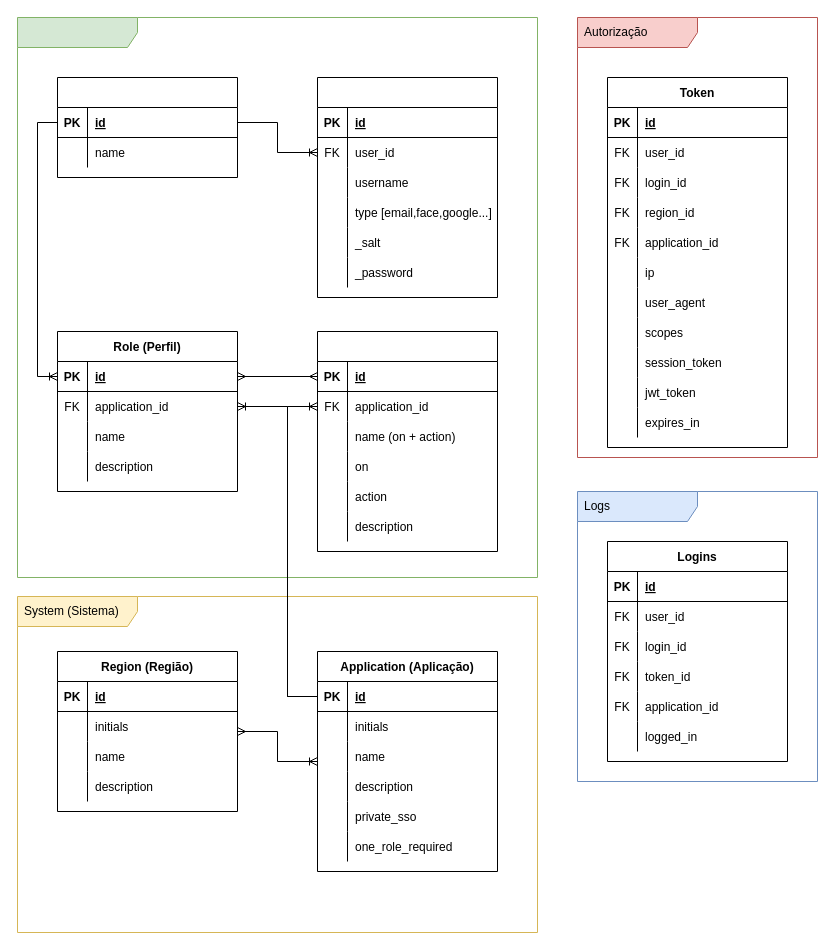
The diagram is 835 pixels wide and 950 high, and some of its shapes have lost their labels. Here are the shapes that lost their labels. From the top down, the box of each, then its label:
(56, 76, 238, 178): User (Usuário)
(316, 76, 498, 298): Login
(16, 16, 538, 578): RBAC
(316, 330, 498, 552): Permission (Perfil)
